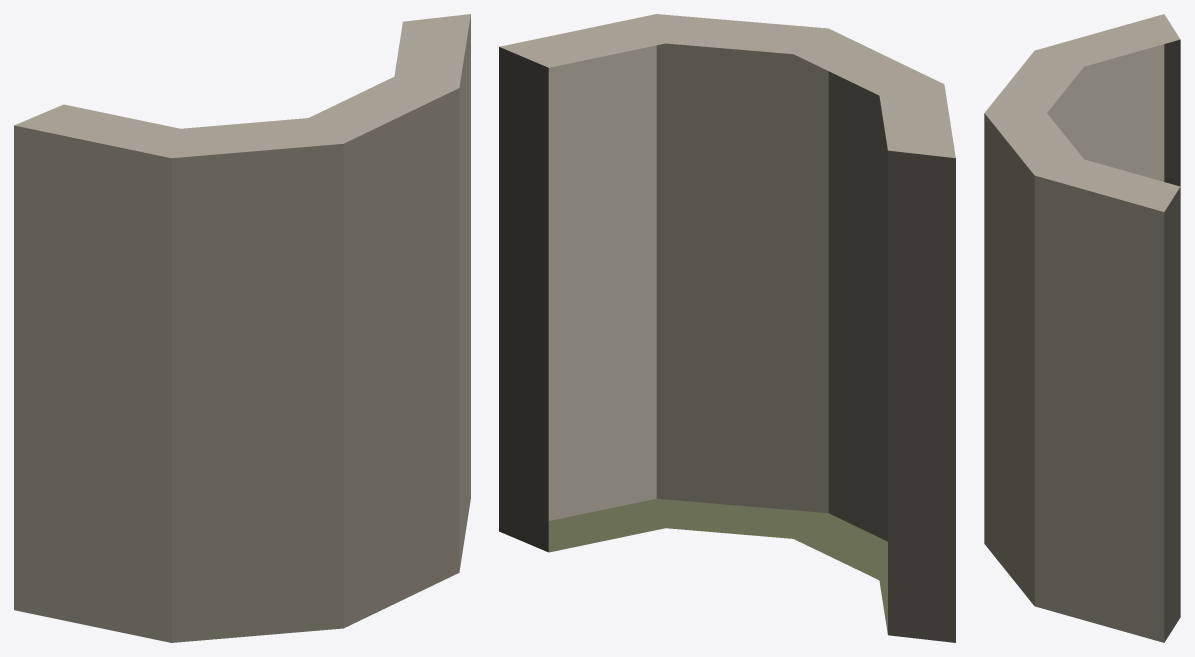
File: armor_plate_a.obj
3 views of the same model, side by side, from view 1: azimuth 30°, elevation 25°; view 2: azimuth 150°, elevation 25°; view 3: azimuth 270°, elevation 25° (orthographic). The views are drawn at different scales.
Parts seen in each view (by area): view 1: armor_plate_a; view 2: armor_plate_a; view 3: armor_plate_a.
Part boxes in pixels (x1=…): armor_plate_a: x1=14, y1=14, x2=470, y2=642; armor_plate_a: x1=499, y1=14, x2=955, y2=642; armor_plate_a: x1=984, y1=14, x2=1180, y2=642.
Bounding box in the file's own units: 1.87 × 1.9 × 0.7837.
